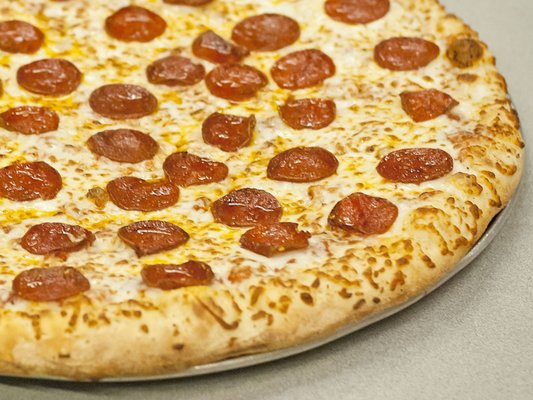sandwich: (0, 0, 529, 366)
